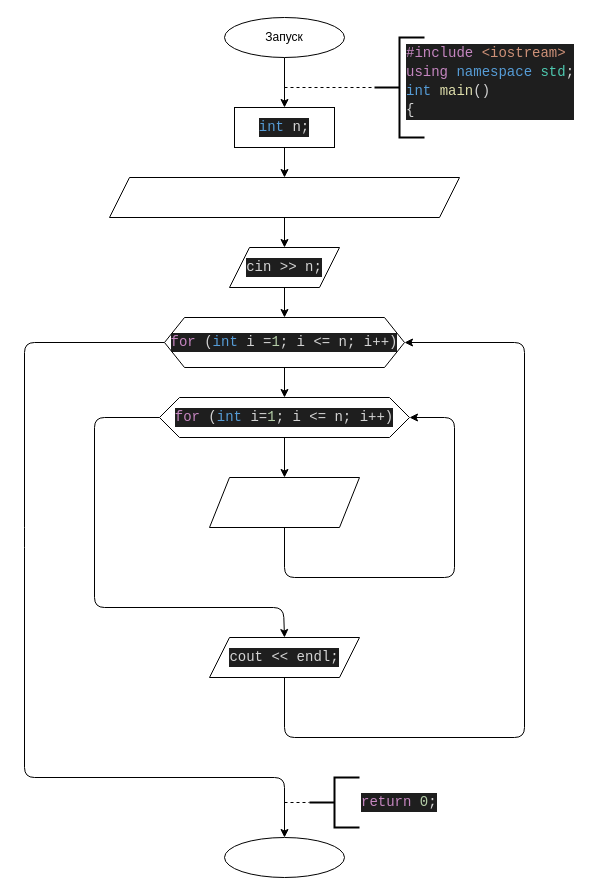
The diagram is 602 pixels wide and 895 high, and some of its shapes have lost their labels. Here are the shapes that lost their labels. From the top down, the centre of each, then its label:
pixel 284 197: cout << "Введите длину стороны: " << endl;
pixel 284 502: cout << "* " ;
pixel 284 857: Конец
